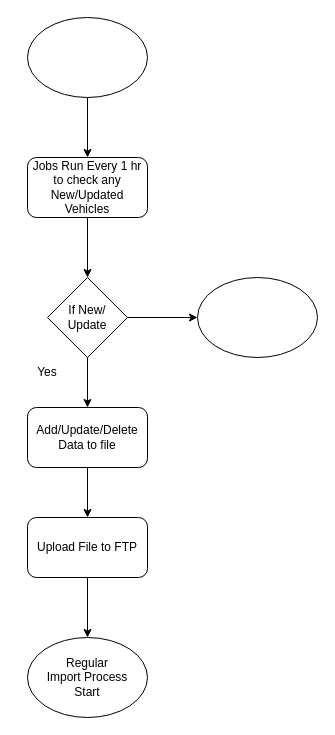
This 335x735 diagram has some shape labels left out. Here are the shapes that lost their labels. From the top down, the centre of each, then its label:
At point 87,57: "Add / Update / Delete Rest Vehicle".
At point 257,317: "No Updates to File".
